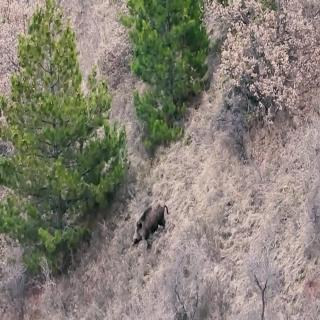Pig: (133, 198, 171, 259)
